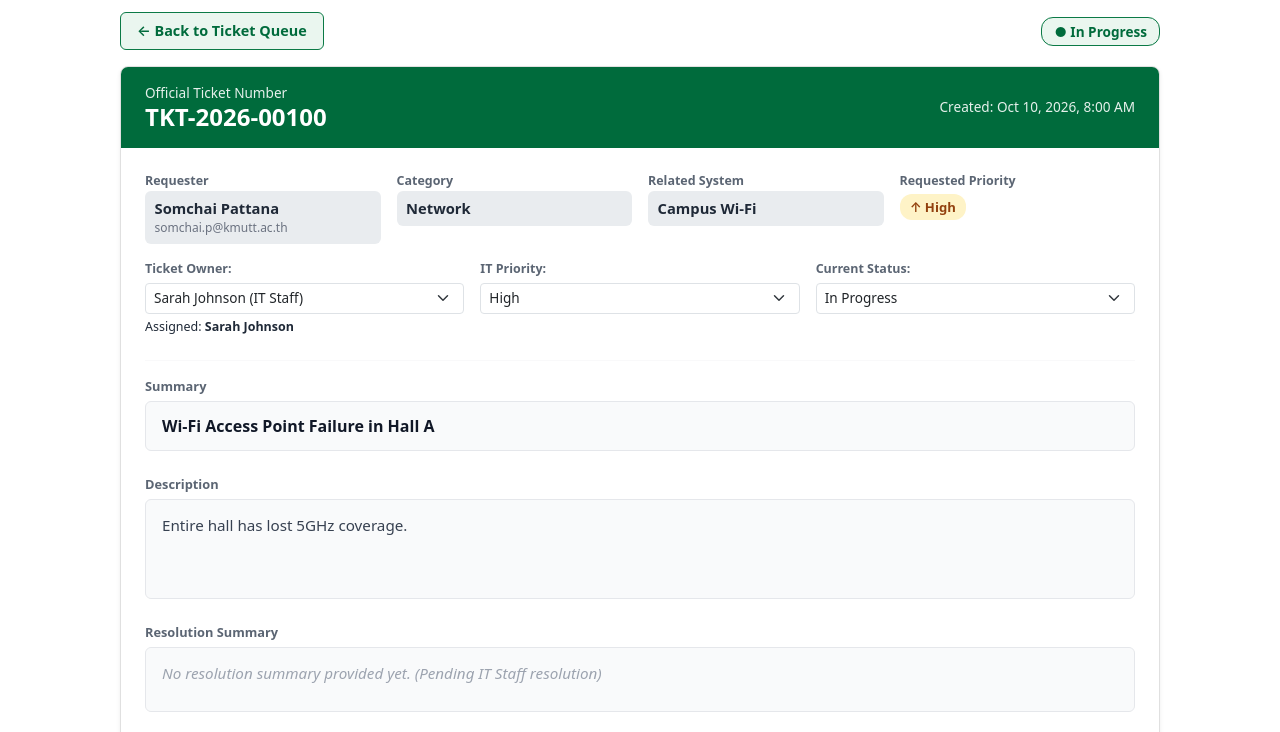
Test: Lab 4 Ticket Workflow & Resolution Gate UI Component Tests (Feature-14) › Resolution Gate UI & Validation › enables Confirm Resolve button and resolves ticket when conditions are satisfied
Select "Resolved" in the dropdown labelled "Current Status:" at (975,298), box [816, 283, 1135, 314]
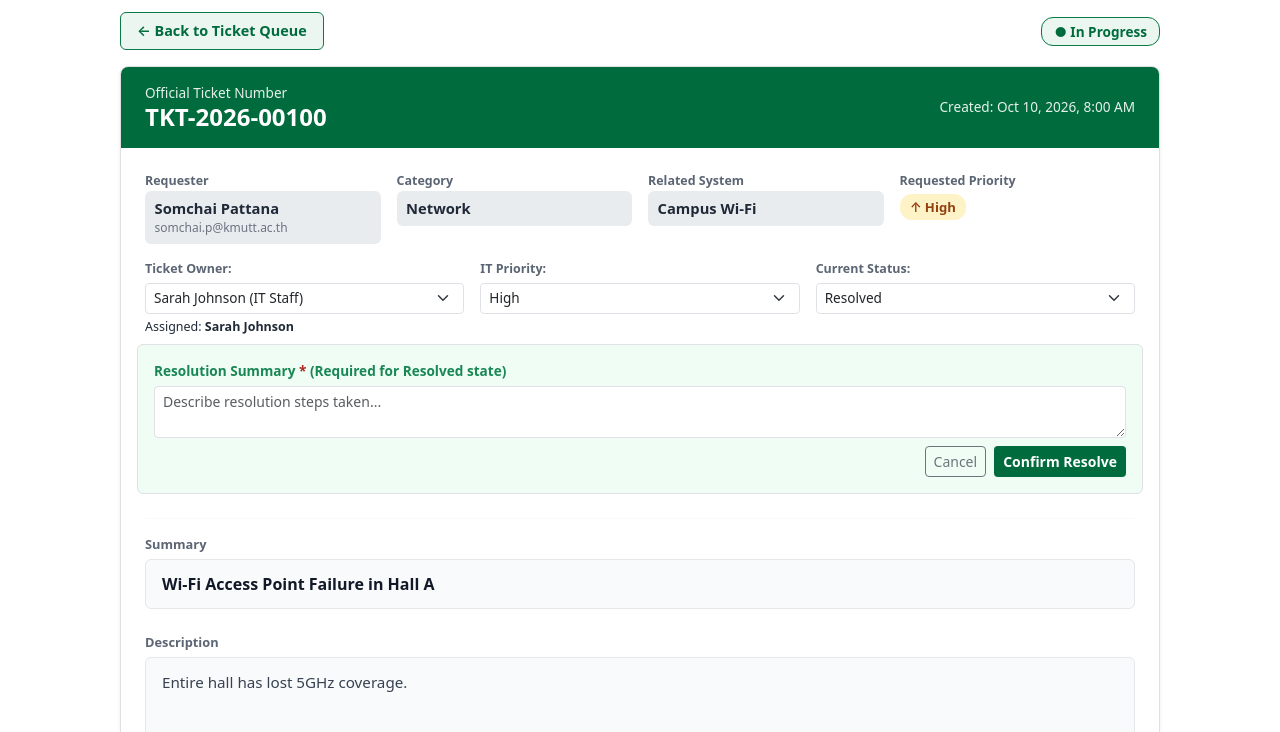
Expected: the text box with placeholder "Describe resolution steps taken..." is shown
Type "Replaced faulty PoE injector and verified network connectivity." into the text box with placeholder "Describe resolution steps taken..." at (640,412), box [154, 386, 1126, 438]
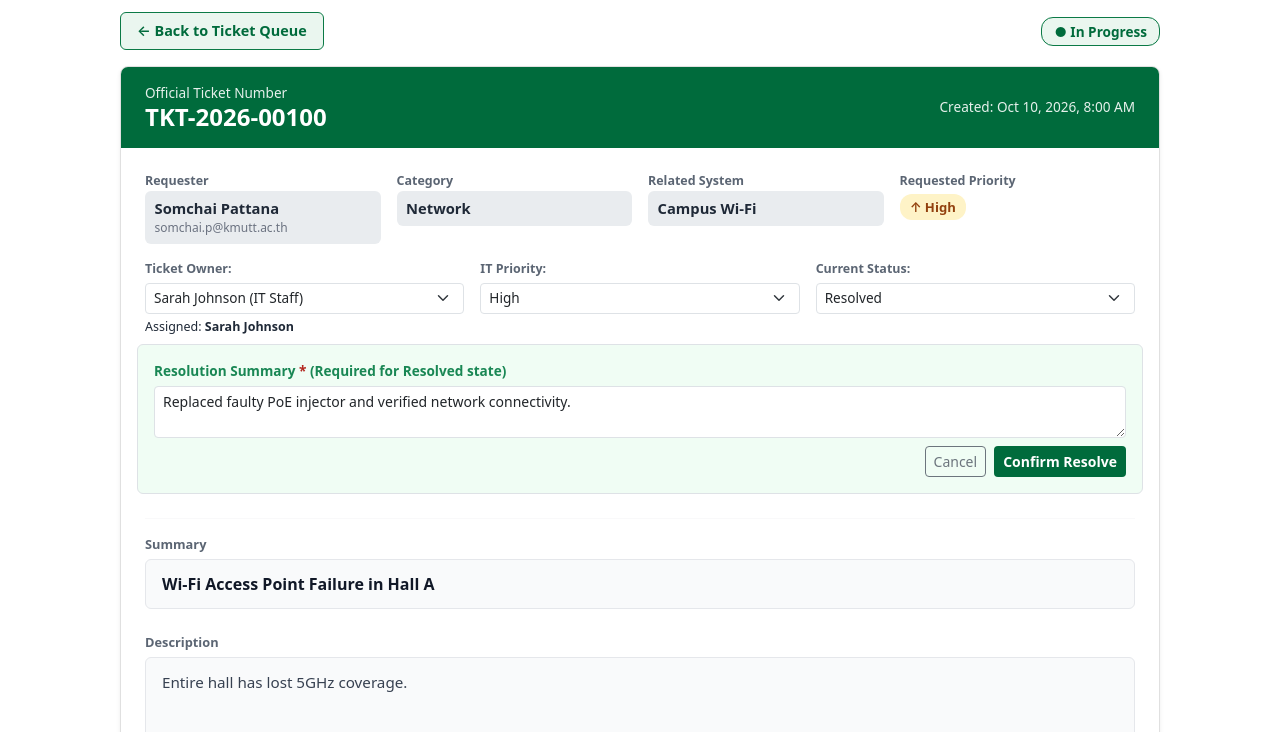
Expected: the button "Confirm Resolve" is enabled
Click the button "Confirm Resolve" at (1060,461), box [994, 446, 1126, 477]
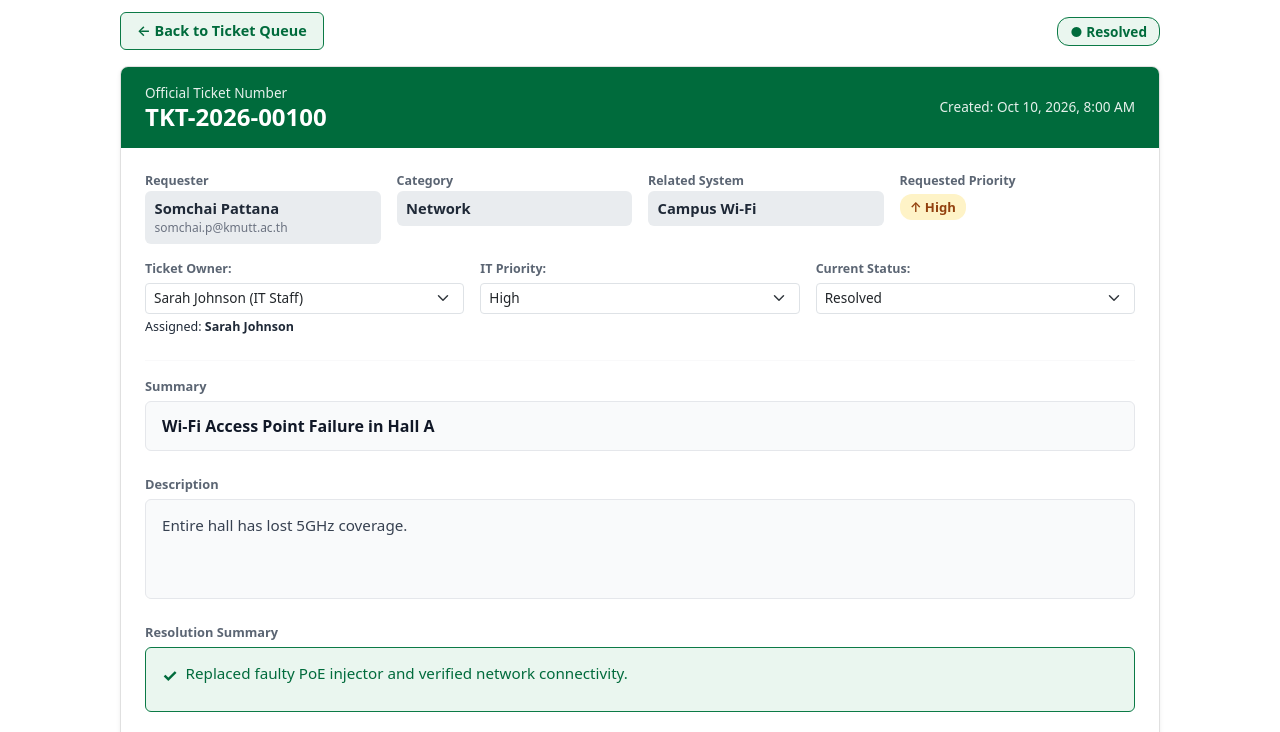
Expected: the text "● Resolved" is shown, [1057, 17, 1160, 46]
